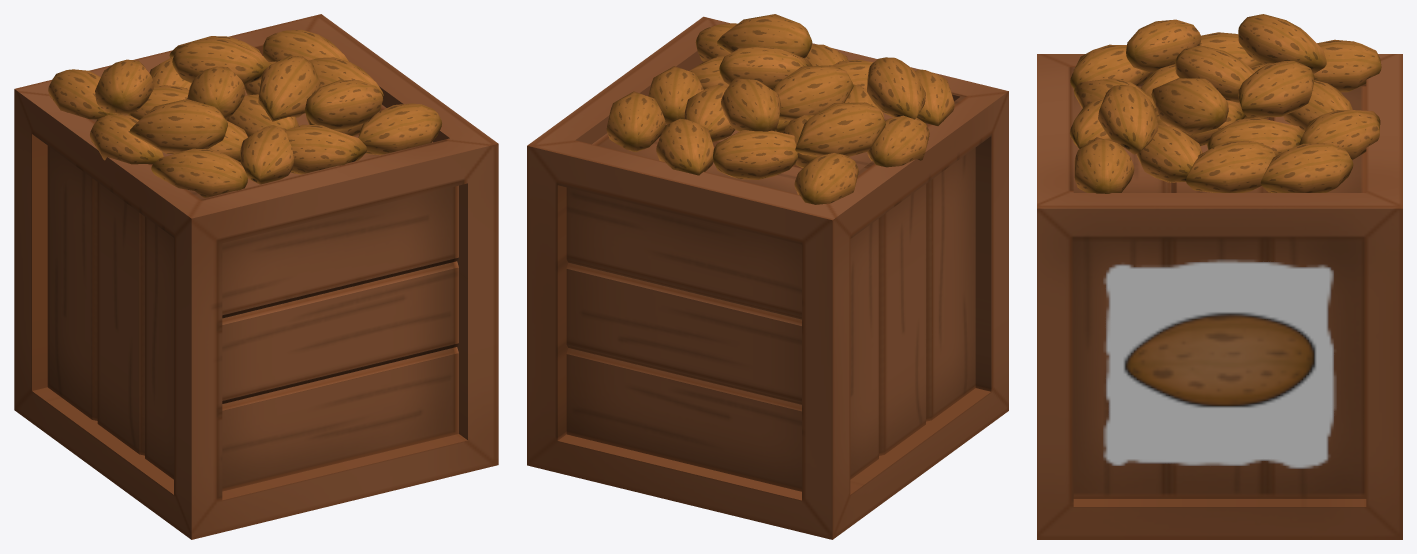
Rendered from caixa cacau (1).fbx.
3 views of the same model, side by side, from view 1: azimuth 30°, elevation 25°; view 2: azimuth 150°, elevation 25°; view 3: azimuth 270°, elevation 25° (orthographic). The views are drawn at different scales.
Visible parts, largest first — view 1: Caixas.004; view 2: Caixas.004; view 3: Caixas.004.
Part boxes in pixels (x1,y1,x2,y2): Caixas.004: [14, 14, 498, 539]; Caixas.004: [527, 14, 1008, 539]; Caixas.004: [1037, 14, 1402, 539].
Bounding box in the file's own units: 202 × 236 × 200.
Materials: 2 (2 with a texture image).
